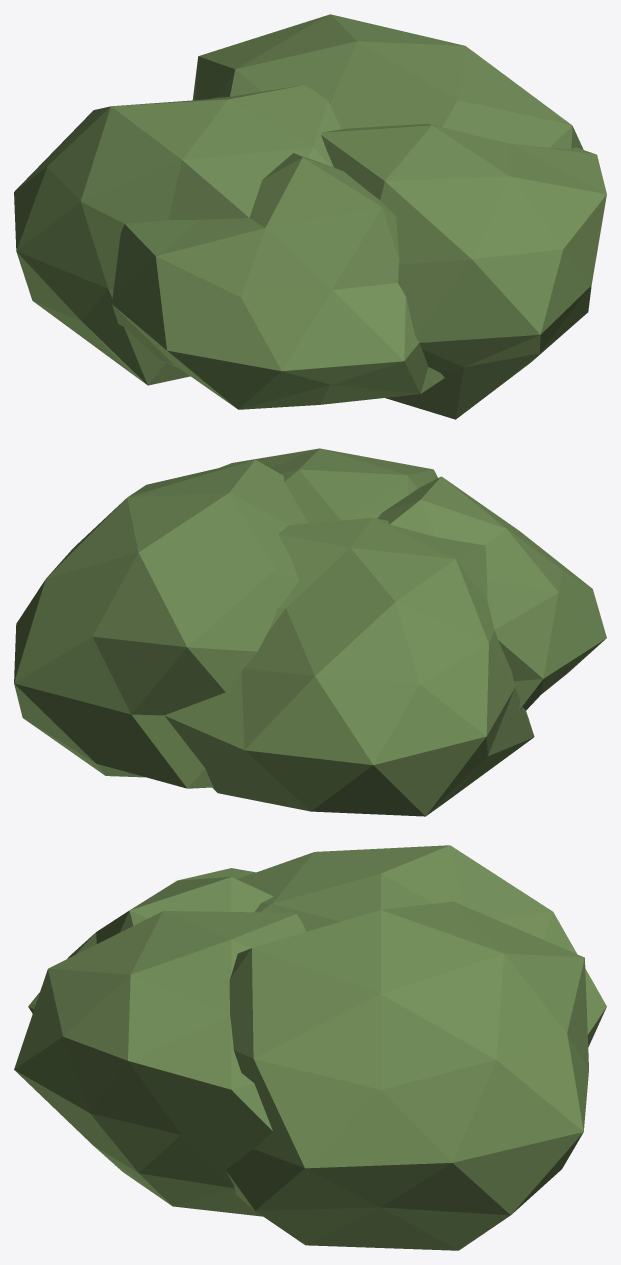
The model's file is bush.glb.
The picture shows the model from 3 angles, top to bottom: view 1: azimuth 30°, elevation 25°; view 2: azimuth 150°, elevation 25°; view 3: azimuth 270°, elevation 25°; orthographic projection. The views are drawn at different scales.
Visible parts, largest first — view 1: Bush0, Bush1, Bush2, Bush3; view 2: Bush2, Bush3, Bush0, Bush1; view 3: Bush3, Bush1, Bush2, Bush0.
Boxes of the visible parts, x1,y1,x2,y2 form: Bush0: [112, 153, 444, 409]; Bush1: [321, 124, 606, 419]; Bush2: [14, 85, 341, 385]; Bush3: [192, 14, 583, 149]; Bush2: [164, 518, 534, 816]; Bush3: [14, 459, 308, 788]; Bush0: [377, 476, 606, 710]; Bush1: [219, 448, 437, 523]; Bush3: [226, 901, 588, 1250]; Bush1: [14, 911, 306, 1216]; Bush2: [237, 845, 606, 1046]; Bush0: [28, 868, 273, 1013].
Bounding box in the file's own units: 1.97 × 1.1 × 1.98.
